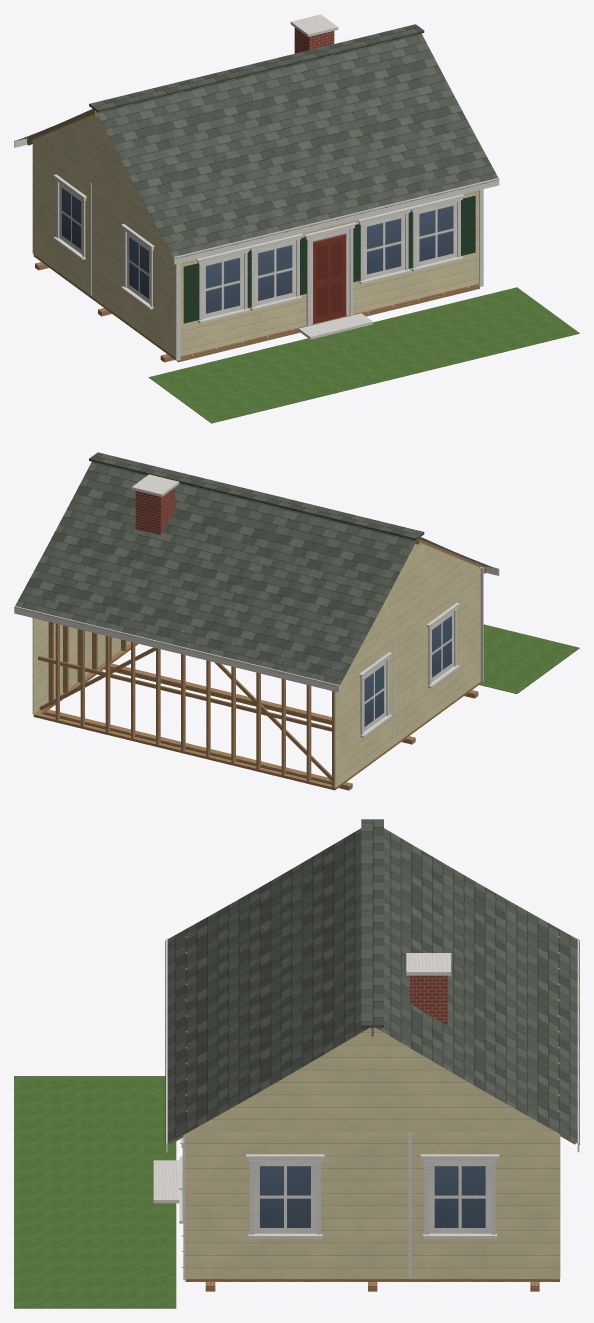
The model's file is camo_house.glb.
3 views of the same model, one above another, from view 1: azimuth 30°, elevation 25°; view 2: azimuth 150°, elevation 25°; view 3: azimuth 270°, elevation 25° (orthographic). The views are drawn at different scales.
Parts seen in each view (by area): view 1: CanvasRoof_Painted_canvas_roof_shingle_pattern_, CanvasWalls_Painted_canvas_siding_pale_yellow_, LawnMat_Painted_burlap_lawn_mat, PaintedDetails_Painted_window_canvas_, PaintedDetails_White_painted_trim_board, PaintedDetails_Painted_door_canvas_, PaintedDetails_Painted_shutter, Frame_Rough_sawn_pine, PaintedDetails_Rough_sawn_pine, Chimney_White_painted_trim_board, Chimney_Painted_canvas_chimney_brick_; view 2: CanvasRoof_Painted_canvas_roof_shingle_pattern_, CanvasWalls_Painted_canvas_siding_pale_yellow_, Frame_Rough_sawn_pine, PaintedDetails_White_painted_trim_board, LawnMat_Painted_burlap_lawn_mat, PaintedDetails_Painted_window_canvas_, Chimney_Painted_canvas_chimney_brick_, Chimney_White_painted_trim_board; view 3: CanvasRoof_Painted_canvas_roof_shingle_pattern_, CanvasWalls_Painted_canvas_siding_pale_yellow_, LawnMat_Painted_burlap_lawn_mat, PaintedDetails_Painted_window_canvas_, PaintedDetails_White_painted_trim_board, Frame_Rough_sawn_pine, Chimney_Painted_canvas_chimney_brick_, Chimney_White_painted_trim_board.
Boxes of the visible parts, box(x1,y1,x2,y2) form: CanvasRoof_Painted_canvas_roof_shingle_pattern_: box(16, 24, 499, 258); CanvasWalls_Painted_canvas_siding_pale_yellow_: box(32, 114, 478, 357); LawnMat_Painted_burlap_lawn_mat: box(148, 287, 579, 423); PaintedDetails_Painted_window_canvas_: box(59, 183, 457, 318); PaintedDetails_White_painted_trim_board: box(14, 138, 499, 360); PaintedDetails_Painted_door_canvas_: box(310, 229, 349, 324); PaintedDetails_Painted_shutter: box(183, 195, 475, 323); Frame_Rough_sawn_pine: box(27, 110, 486, 362); PaintedDetails_Rough_sawn_pine: box(180, 283, 479, 359); Chimney_White_painted_trim_board: box(290, 14, 338, 36); Chimney_Painted_canvas_chimney_brick_: box(294, 27, 334, 53); CanvasRoof_Painted_canvas_roof_shingle_pattern_: box(14, 452, 496, 687); CanvasWalls_Painted_canvas_siding_pale_yellow_: box(32, 543, 480, 787); Frame_Rough_sawn_pine: box(26, 538, 486, 790); PaintedDetails_White_painted_trim_board: box(14, 566, 499, 744); LawnMat_Painted_burlap_lawn_mat: box(479, 624, 579, 693); PaintedDetails_Painted_window_canvas_: box(363, 611, 453, 731); Chimney_Painted_canvas_chimney_brick_: box(135, 487, 175, 535); Chimney_White_painted_trim_board: box(131, 474, 179, 496); CanvasRoof_Painted_canvas_roof_shingle_pattern_: box(165, 819, 579, 1144); CanvasWalls_Painted_canvas_siding_pale_yellow_: box(185, 1027, 560, 1278); LawnMat_Painted_burlap_lawn_mat: box(14, 1076, 176, 1308); PaintedDetails_Painted_window_canvas_: box(254, 1161, 491, 1233); PaintedDetails_White_painted_trim_board: box(153, 938, 579, 1280); Frame_Rough_sawn_pine: box(169, 936, 575, 1291); Chimney_Painted_canvas_chimney_brick_: box(410, 975, 447, 1025); Chimney_White_painted_trim_board: box(406, 953, 451, 975).
Bounding box in the file's own units: 8.8 × 4.95 × 9.07.
Materials: 9 (9 with a texture image).
